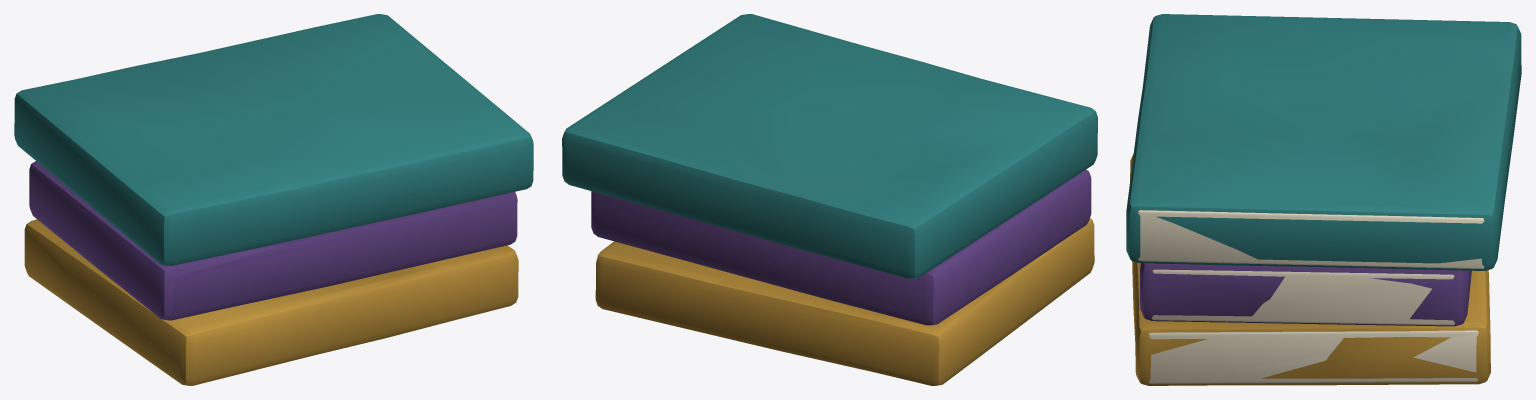
The model's file is den_book_stack_lod1.glb.
3 views of the same model, side by side, from view 1: azimuth 30°, elevation 25°; view 2: azimuth 150°, elevation 25°; view 3: azimuth 270°, elevation 25° (orthographic). The views are drawn at different scales.
Parts seen in each view (by area): view 1: den_book_stack.001; view 2: den_book_stack.001; view 3: den_book_stack.001.
Boxes of the visible parts, x1,y1,x2,y2 form: den_book_stack.001: (14,14,533,385); den_book_stack.001: (562,14,1097,385); den_book_stack.001: (1126,14,1521,385).
Size of the model in its own units: 10.2 by 4.5 by 8.34.
